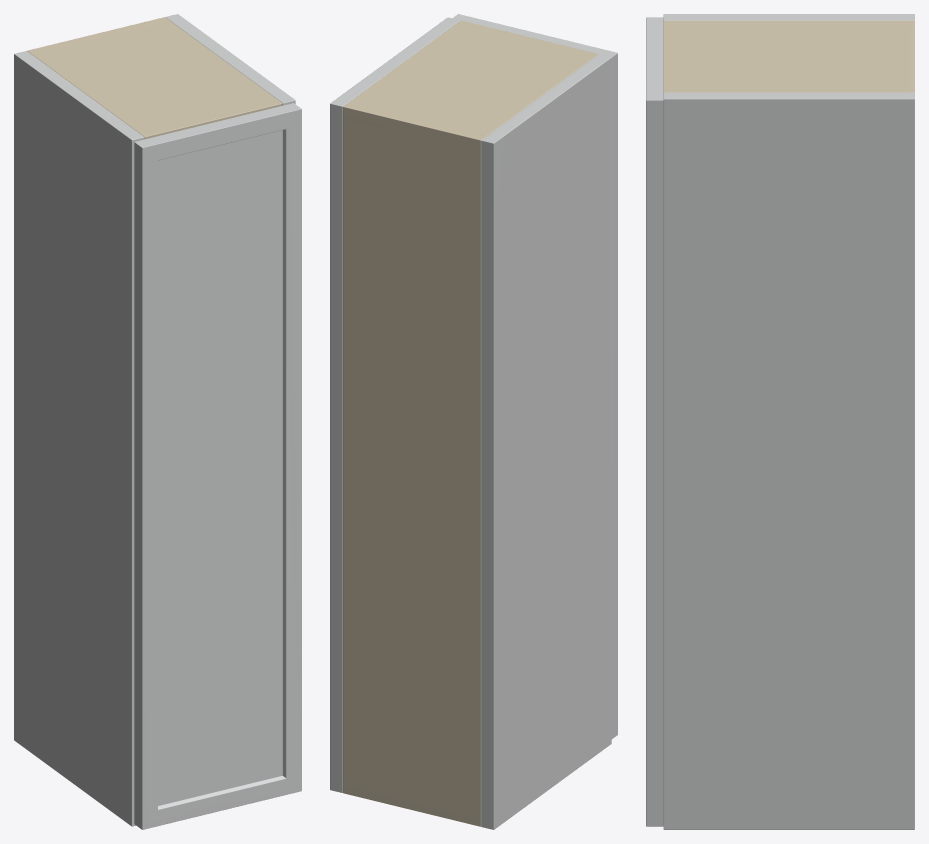
File: oppein-ply-ssw-w0936.glb
3 views of the same model, side by side, from view 1: azimuth 30°, elevation 25°; view 2: azimuth 150°, elevation 25°; view 3: azimuth 270°, elevation 25° (orthographic). The views are drawn at different scales.
Parts seen in each view (by area): view 1: Door, Cabinet side, Cabinet top, Cabinet side.001, Cabinet back; view 2: Cabinet back, Cabinet side, Cabinet top, Cabinet side.001, Door, Cabinet bottom; view 3: Cabinet side.001, Cabinet top, Door, Cabinet side, Cabinet back.
Boxes of the visible parts, box(x1,y1,x2,y2) form: Door: box(134, 103, 301, 829); Cabinet side: box(14, 51, 144, 826); Cabinet top: box(27, 20, 282, 139); Cabinet side.001: box(165, 14, 295, 105); Cabinet back: box(27, 17, 168, 53); Cabinet back: box(343, 103, 485, 826); Cabinet side: box(481, 54, 611, 829); Cabinet top: box(343, 20, 598, 151); Cabinet side.001: box(330, 17, 460, 792); Door: box(453, 14, 617, 738); Cabinet bottom: box(343, 780, 480, 826); Cabinet side.001: box(663, 92, 914, 829); Cabinet top: box(663, 20, 914, 92); Door: box(646, 17, 663, 826); Cabinet side: box(663, 14, 914, 20); Cabinet back: box(905, 20, 914, 92).
Bounding box in the file's own units: 0.2286 × 0.9144 × 0.3048.
